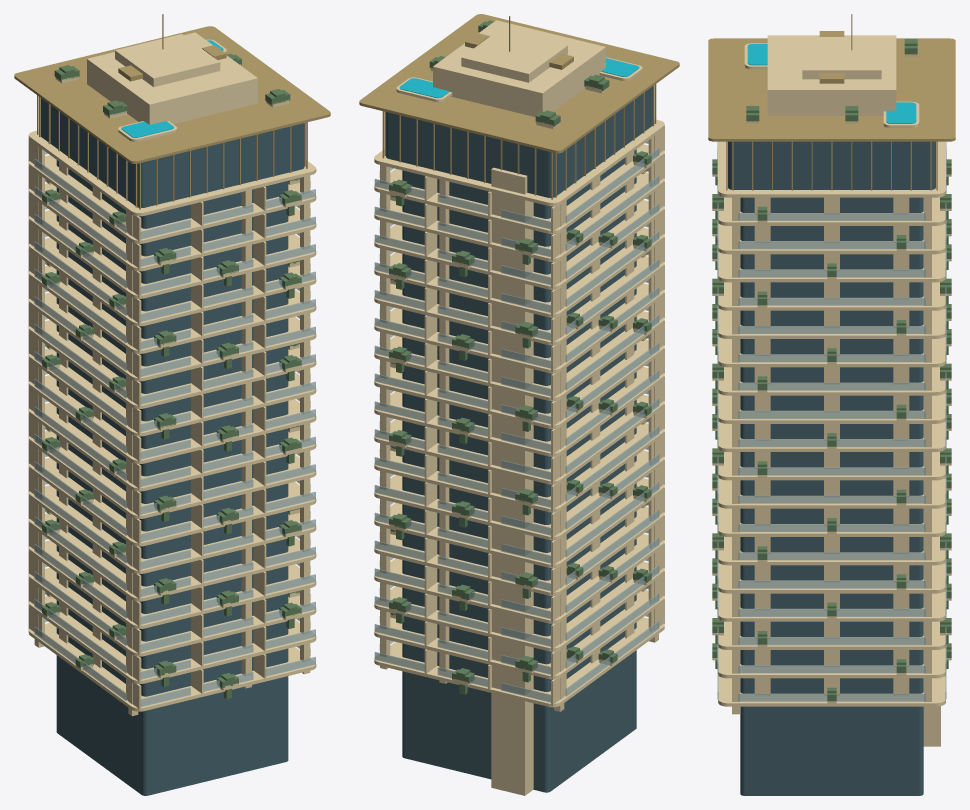
Rendered from ora-west.glb.
3 renders of one model, left to right at view 1: azimuth 30°, elevation 25°; view 2: azimuth 150°, elevation 25°; view 3: azimuth 270°, elevation 25°, orthographic. The views are drawn at different scales.
Visible parts, largest first — view 1: ORA West Tower; view 2: ORA West Tower; view 3: ORA West Tower.
Part boxes in pixels (<box>): ORA West Tower: <box>14,14,330,795</box>; ORA West Tower: <box>359,14,679,795</box>; ORA West Tower: <box>708,14,955,795</box>.
Bounding box in the file's own units: 24 × 83 × 25.
